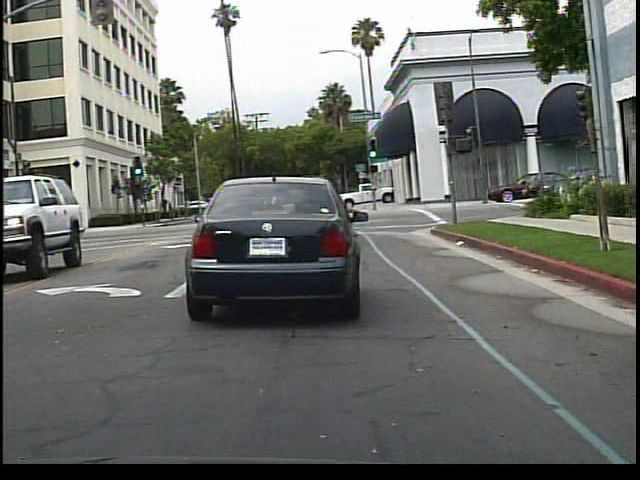car: (185, 170, 368, 328), (4, 159, 82, 278), (488, 171, 564, 201), (344, 181, 396, 203)
